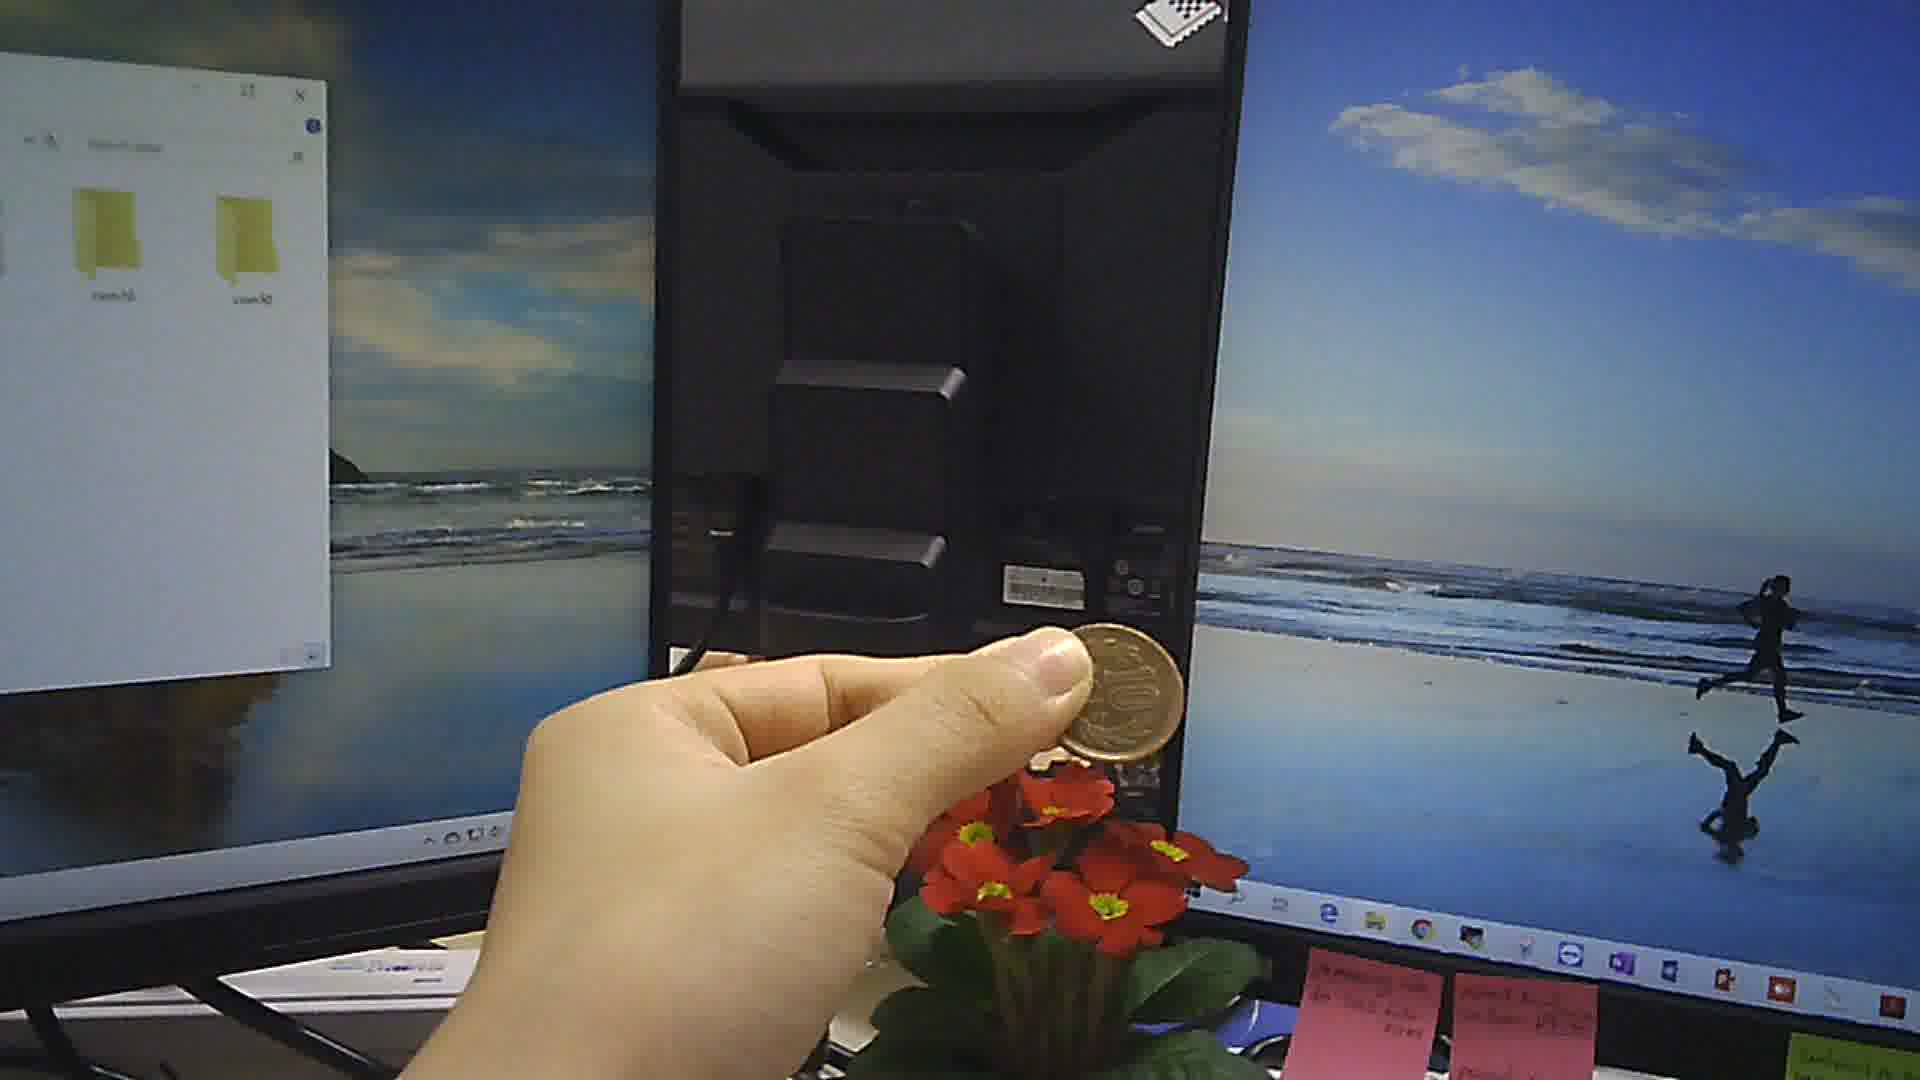10 Yen: (1043, 618, 1193, 769)
